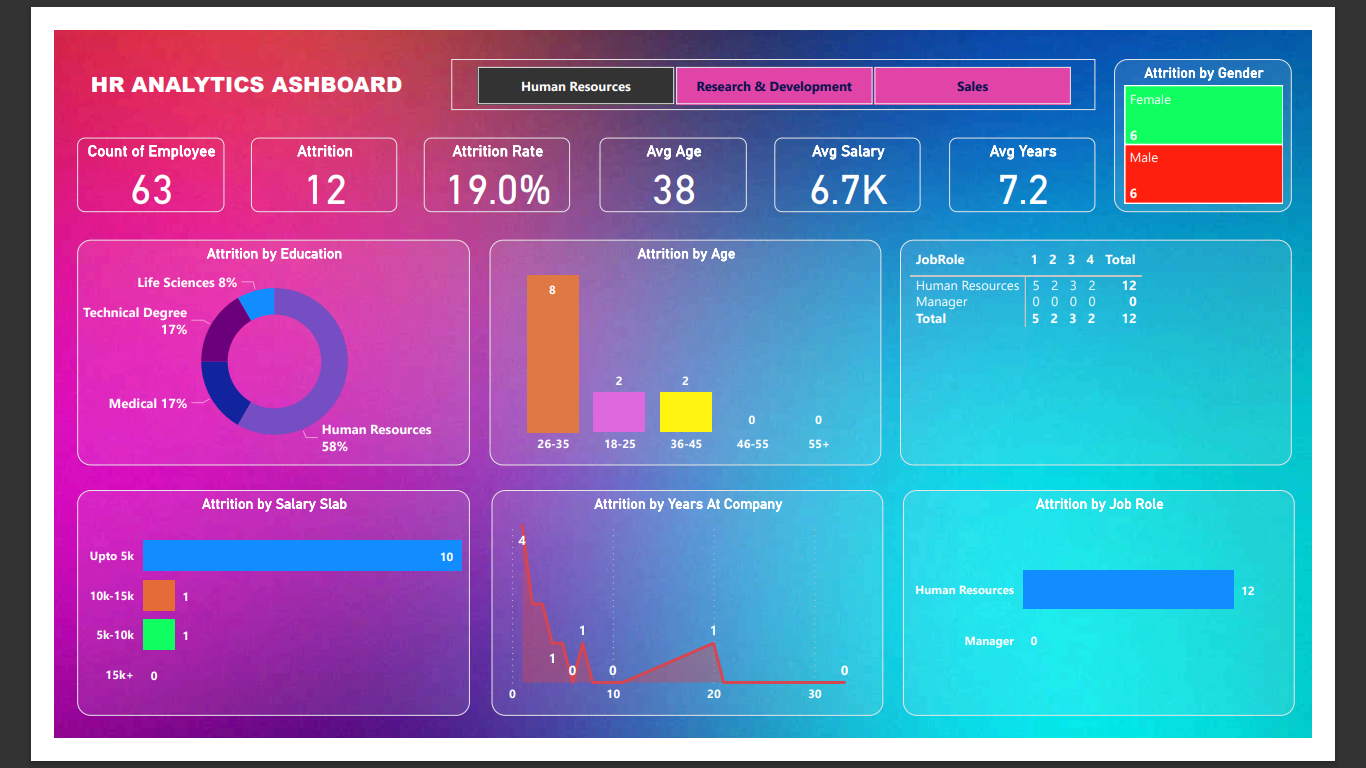

What the dashboard file says about the page in this screenshot:
{"tool":"powerbi","page":{"name":"Page 1","canvas":[1280,720],"ordinal":0},"visuals":[{"type":"card","title":"Attrition","fields":{"Values":["Sum(HR_Analytics.AttritionCount)"]},"box":[199.6,109,149.3,75.5],"z":0},{"type":"card","title":"Count of Employee","fields":{"Values":["CountNonNull(HR_Analytics.EmpID)"]},"box":[23.5,109,149.3,75.5],"z":1000},{"type":"card","title":"Attrition Rate","fields":{"Values":["HR_Analytics.AttritionRate"]},"box":[375.8,109,149.3,75.5],"z":2000},{"type":"card","title":"Avg Age","fields":{"Values":["Avg(HR_Analytics.Age)"]},"box":[555.3,109,149.3,75.5],"z":3000},{"type":"card","title":"Avg Salary","fields":{"Values":["Avg(HR_Analytics.MonthlyIncome)"]},"box":[733.1,109,149.3,75.5],"z":4000},{"type":"card","title":"Avg Years","fields":{"Values":["Avg(HR_Analytics.YearsAtCompany)"]},"box":[910.9,109,149.3,75.5],"z":5000},{"type":"donutChart","title":"Attrition by Education","fields":{"Category":["HR_Analytics.EducationField"],"Y":["Sum(HR_Analytics.AttritionCount)"]},"box":[23.5,213.1,399.3,229.8],"z":6000},{"type":"columnChart","title":"Attrition by Age","fields":{"Category":["HR_Analytics.AgeGroup"],"Y":["Sum(HR_Analytics.AttritionCount)"]},"box":[442.9,213.1,399.3,229.8],"z":7000},{"type":"pivotTable","fields":{"Rows":["HR_Analytics.JobRole"],"Columns":["HR_Analytics.JobSatisfaction"],"Values":["Sum(HR_Analytics.AttritionCount)"]},"box":[860.6,213.1,399.3,229.8],"z":8000},{"type":"barChart","title":"Attrition by Salary Slab","fields":{"Category":["HR_Analytics.SalarySlab"],"Y":["Sum(HR_Analytics.AttritionCount)"]},"box":[23.5,468,399.3,229.8],"z":9000},{"type":"barChart","title":"Attrition by Job Role","fields":{"Category":["HR_Analytics.JobRole"],"Y":["Sum(HR_Analytics.AttritionCount)"]},"box":[864,468,399.3,229.8],"z":10000},{"type":"areaChart","title":"Attrition by Years At Company","fields":{"Category":["HR_Analytics.YearsAtCompany"],"Y":["Sum(HR_Analytics.AttritionCount)"]},"box":[444.6,468,399.3,229.8],"z":11000},{"type":"treemap","title":"Attrition by Gender","fields":{"Group":["HR_Analytics.Gender"],"Values":["Sum(HR_Analytics.AttritionCount)"]},"box":[1078.7,28.5,181.2,156],"z":12000},{"type":"slicer","fields":{"Values":["HR_Analytics.Department"]},"box":[404.3,28.5,655.9,52],"z":13000},{"type":"textbox","box":[31.9,35.2,354,45.3],"z":14000}]}

Visuals, with their boxes in screenshot pixels (x1, y1, x2, y2), scaled from the page's 1280x720 canvas onto the 1366x768 screenshot:
"Attrition" card: bbox(213, 116, 372, 197)
"Count of Employee" card: bbox(25, 116, 184, 197)
"Attrition Rate" card: bbox(401, 116, 560, 197)
"Avg Age" card: bbox(593, 116, 752, 197)
"Avg Salary" card: bbox(782, 116, 942, 197)
"Avg Years" card: bbox(972, 116, 1131, 197)
"Attrition by Education" donutChart: bbox(25, 227, 451, 472)
"Attrition by Age" columnChart: bbox(473, 227, 899, 472)
pivotTable - HR_Analytics.JobRole x HR_Analytics.JobSatisfaction: bbox(918, 227, 1345, 472)
"Attrition by Salary Slab" barChart: bbox(25, 499, 451, 744)
"Attrition by Job Role" barChart: bbox(922, 499, 1348, 744)
"Attrition by Years At Company" areaChart: bbox(474, 499, 901, 744)
"Attrition by Gender" treemap: bbox(1151, 30, 1345, 197)
slicer - HR_Analytics.Department: bbox(431, 30, 1131, 86)
textbox: bbox(34, 38, 412, 86)
